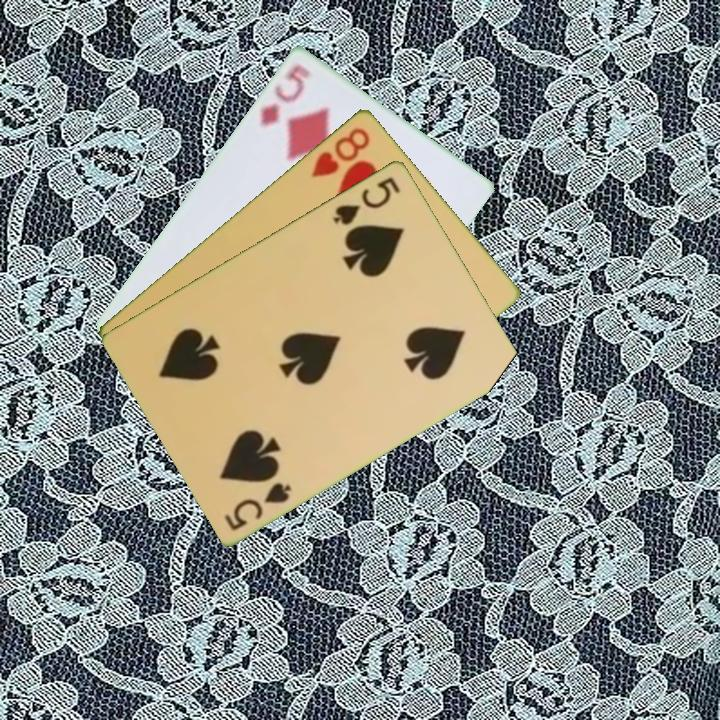5d: (256, 59, 314, 129)
5s: (329, 173, 404, 228), (221, 478, 295, 533)
8h: (307, 123, 373, 180)
